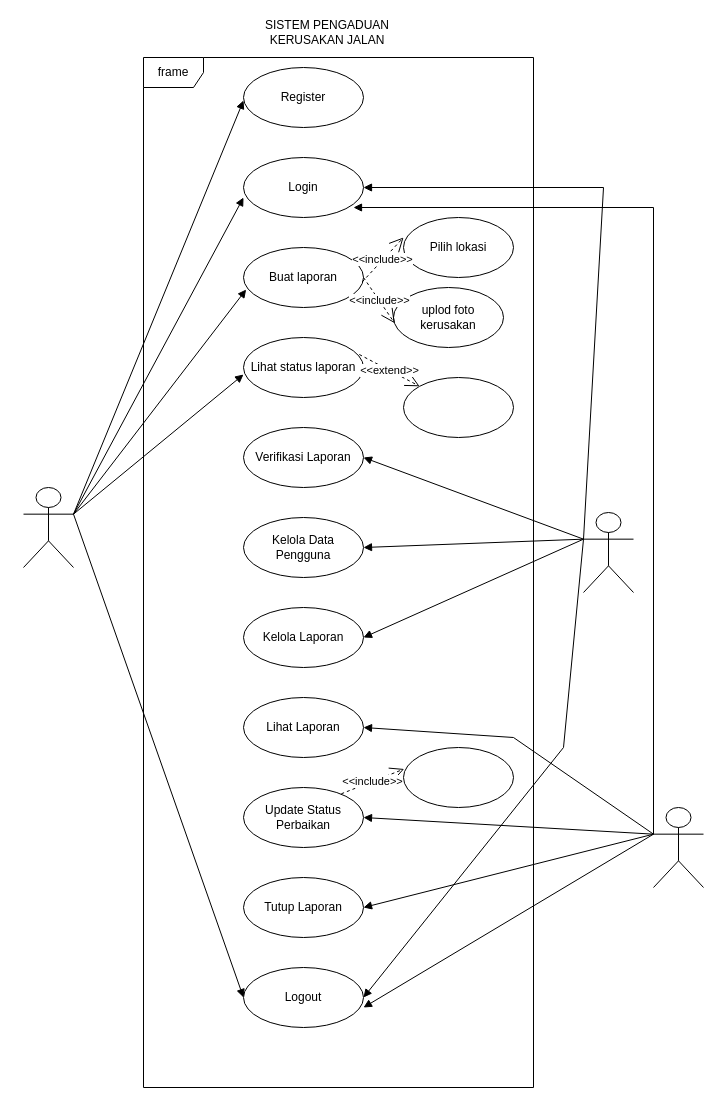
The diagram is 726 pixels wide and 1105 high, and some of its shapes have lost their labels. Here are the shapes that lost their labels. From the top down, the centre of each, then its label:
point (458, 407): Notif perubahan
point (48, 527): masyarakat
point (608, 552): Admin
point (458, 777): Unggah foto dokumen perbaikan
point (678, 847): Petugas LP
